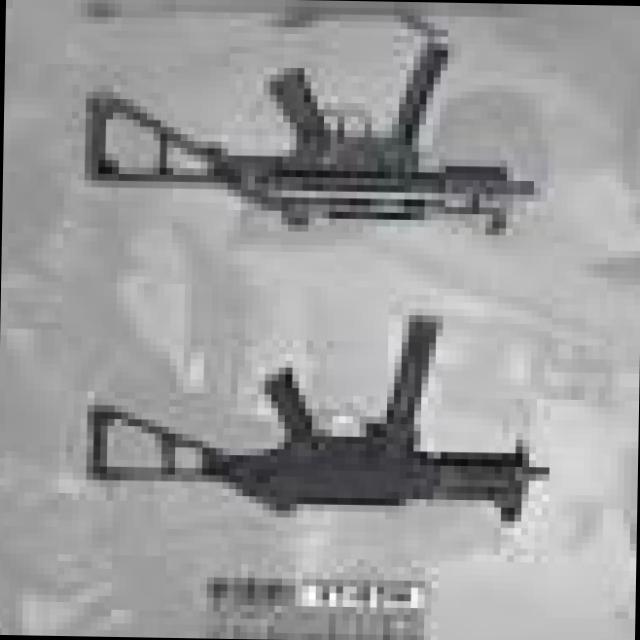Gun: (74, 290, 554, 526), (68, 18, 564, 246)
